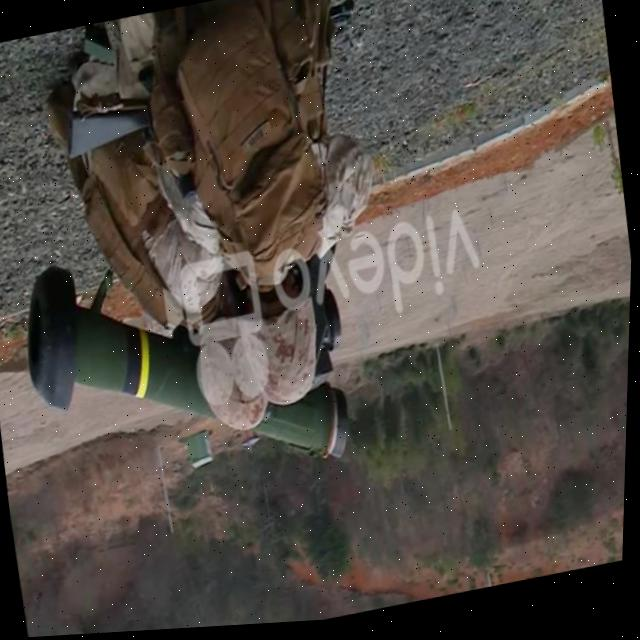rocket: (11, 206, 362, 532)
